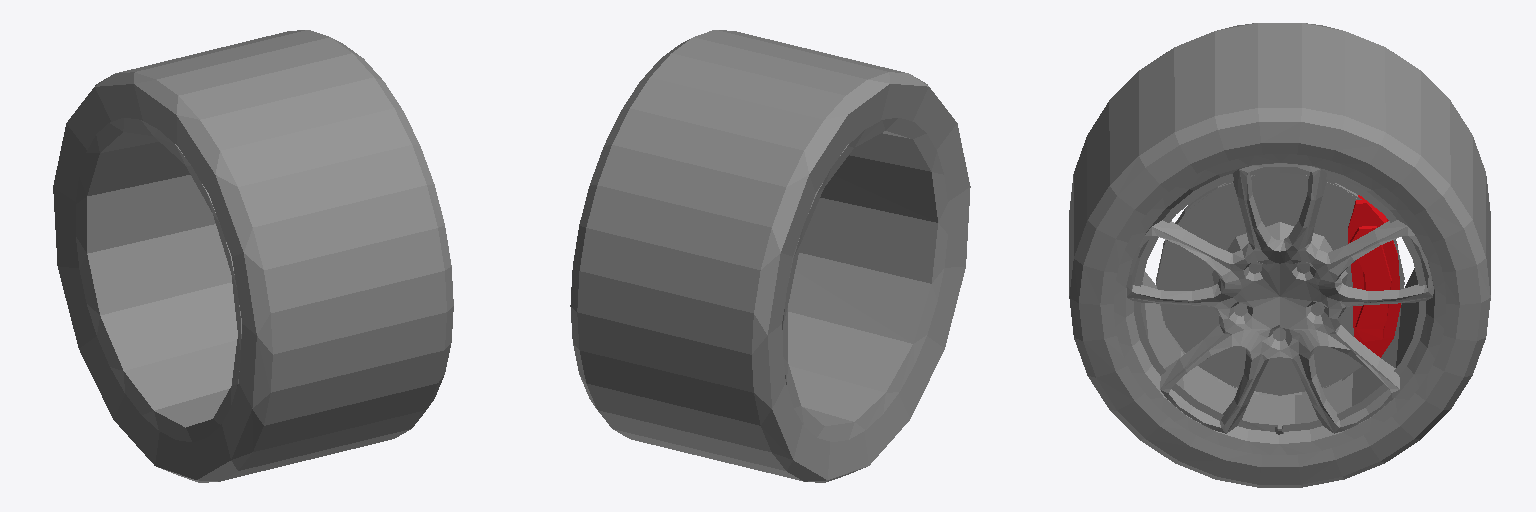
3 renders of one model, left to right at view 1: azimuth 30°, elevation 25°; view 2: azimuth 150°, elevation 25°; view 3: azimuth 270°, elevation 25°, orthographic.
Visible parts, largest first — view 1: part_028; view 2: part_028; view 3: part_028, part_023.
Boxes of the visible parts, <box> form: part_028: <box>53,30,453,482</box>; part_028: <box>570,30,970,482</box>; part_028: <box>1069,23,1490,487</box>; part_023: <box>1348,195,1400,357</box>.
Bounding box in the file's own units: 3.4 × 6.09 × 6.13.
Materials: 2 (1 with a texture image).